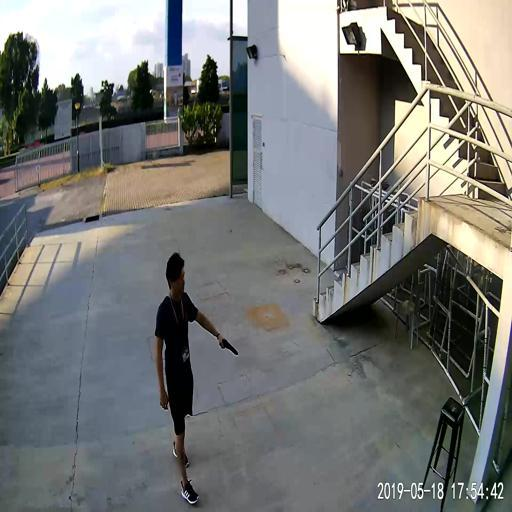Handgun: (217, 337, 237, 354)
